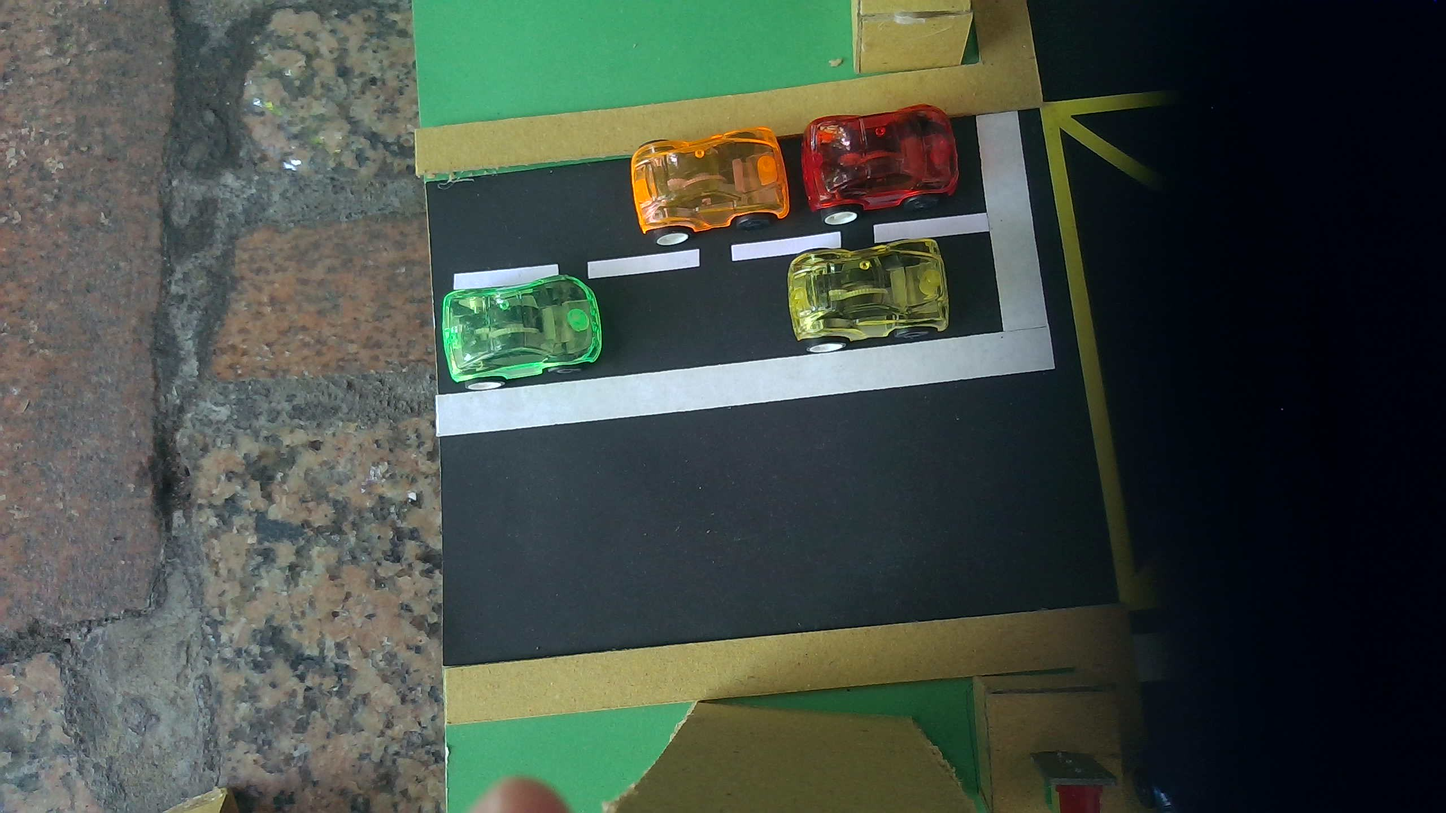Mobil hijau: (441, 275, 603, 389)
Mobil kuning: (787, 238, 950, 353)
Mobil merah: (801, 104, 957, 225)
Mobil orange: (631, 127, 789, 246)
